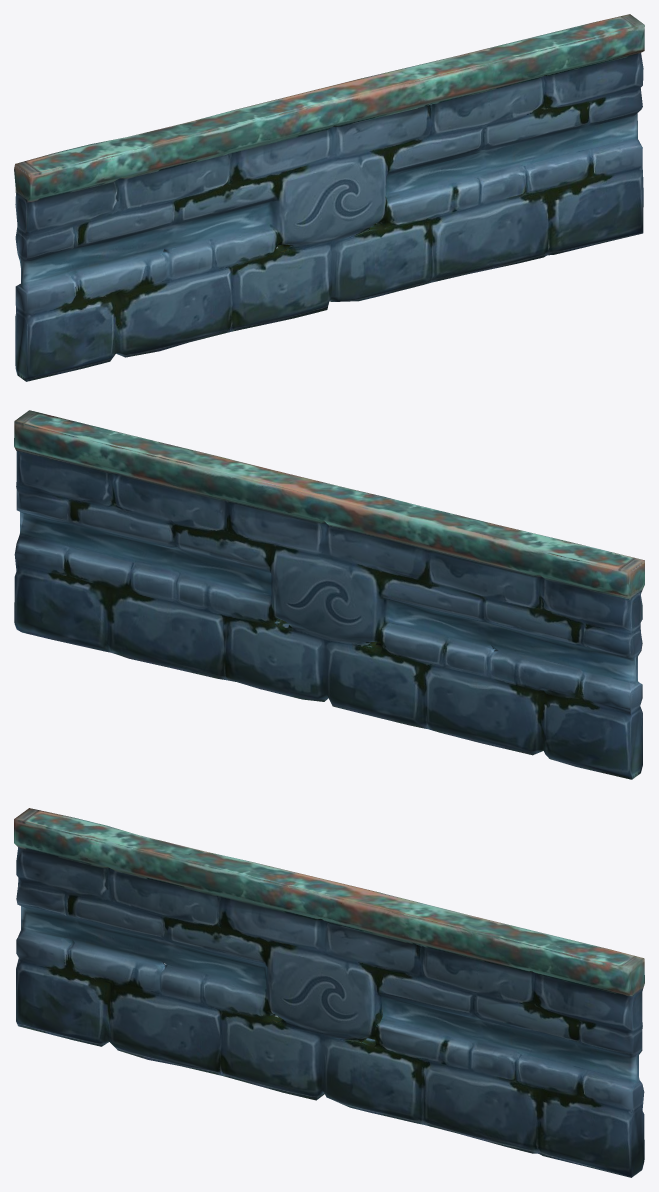
Rendered from el_muro_agua.glb.
3 renders of one model, top to bottom at view 1: azimuth 30°, elevation 25°; view 2: azimuth 150°, elevation 25°; view 3: azimuth 330°, elevation 25°, orthographic.
Visible parts, largest first — view 1: baixa; view 2: baixa; view 3: baixa.
Boxes of the visible parts, x1=… form: baixa: x1=14, y1=14, x2=644, y2=381; baixa: x1=14, y1=410, x2=644, y2=779; baixa: x1=14, y1=808, x2=644, y2=1177.
Size of the model in its own units: 1 by 0.3262 by 0.0488.
1 material, 1 textured.
